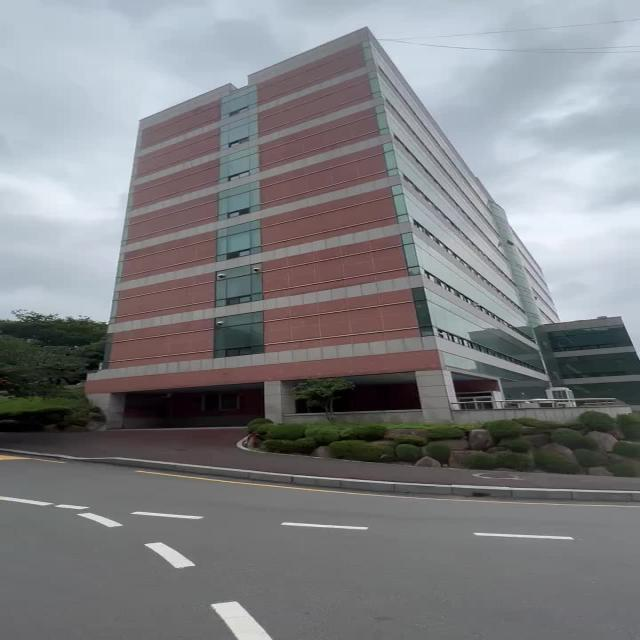building: (116, 32, 500, 371)
